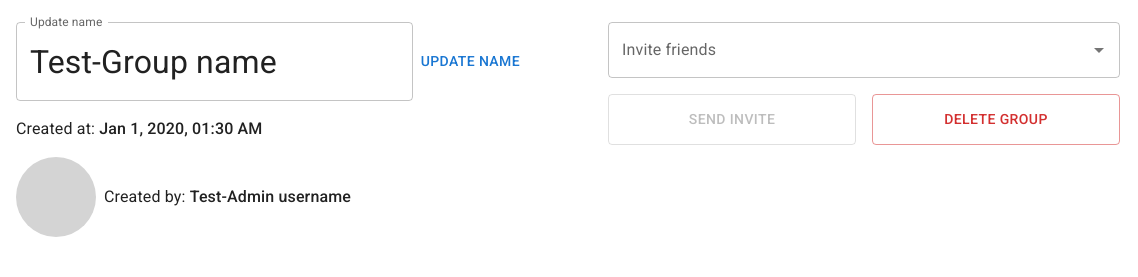
Test case: group-details-header component › rendering invite friends to group action elements as admin › should render a listbox to select all friends who are not members of the group
Click the button named "Open" at (1099, 50), box [1085,36,1113,64]
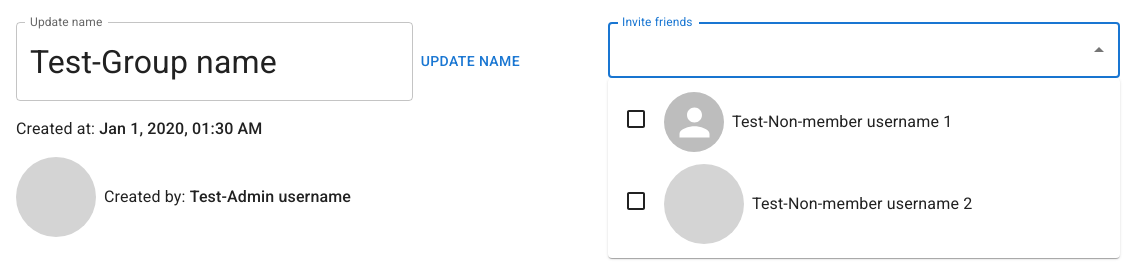
Expected: the option "Test-Non-member username 1" is shown, [624,92,952,152]
Expected: the option "Test-Non-member username 2" is shown, [624,164,972,244]
